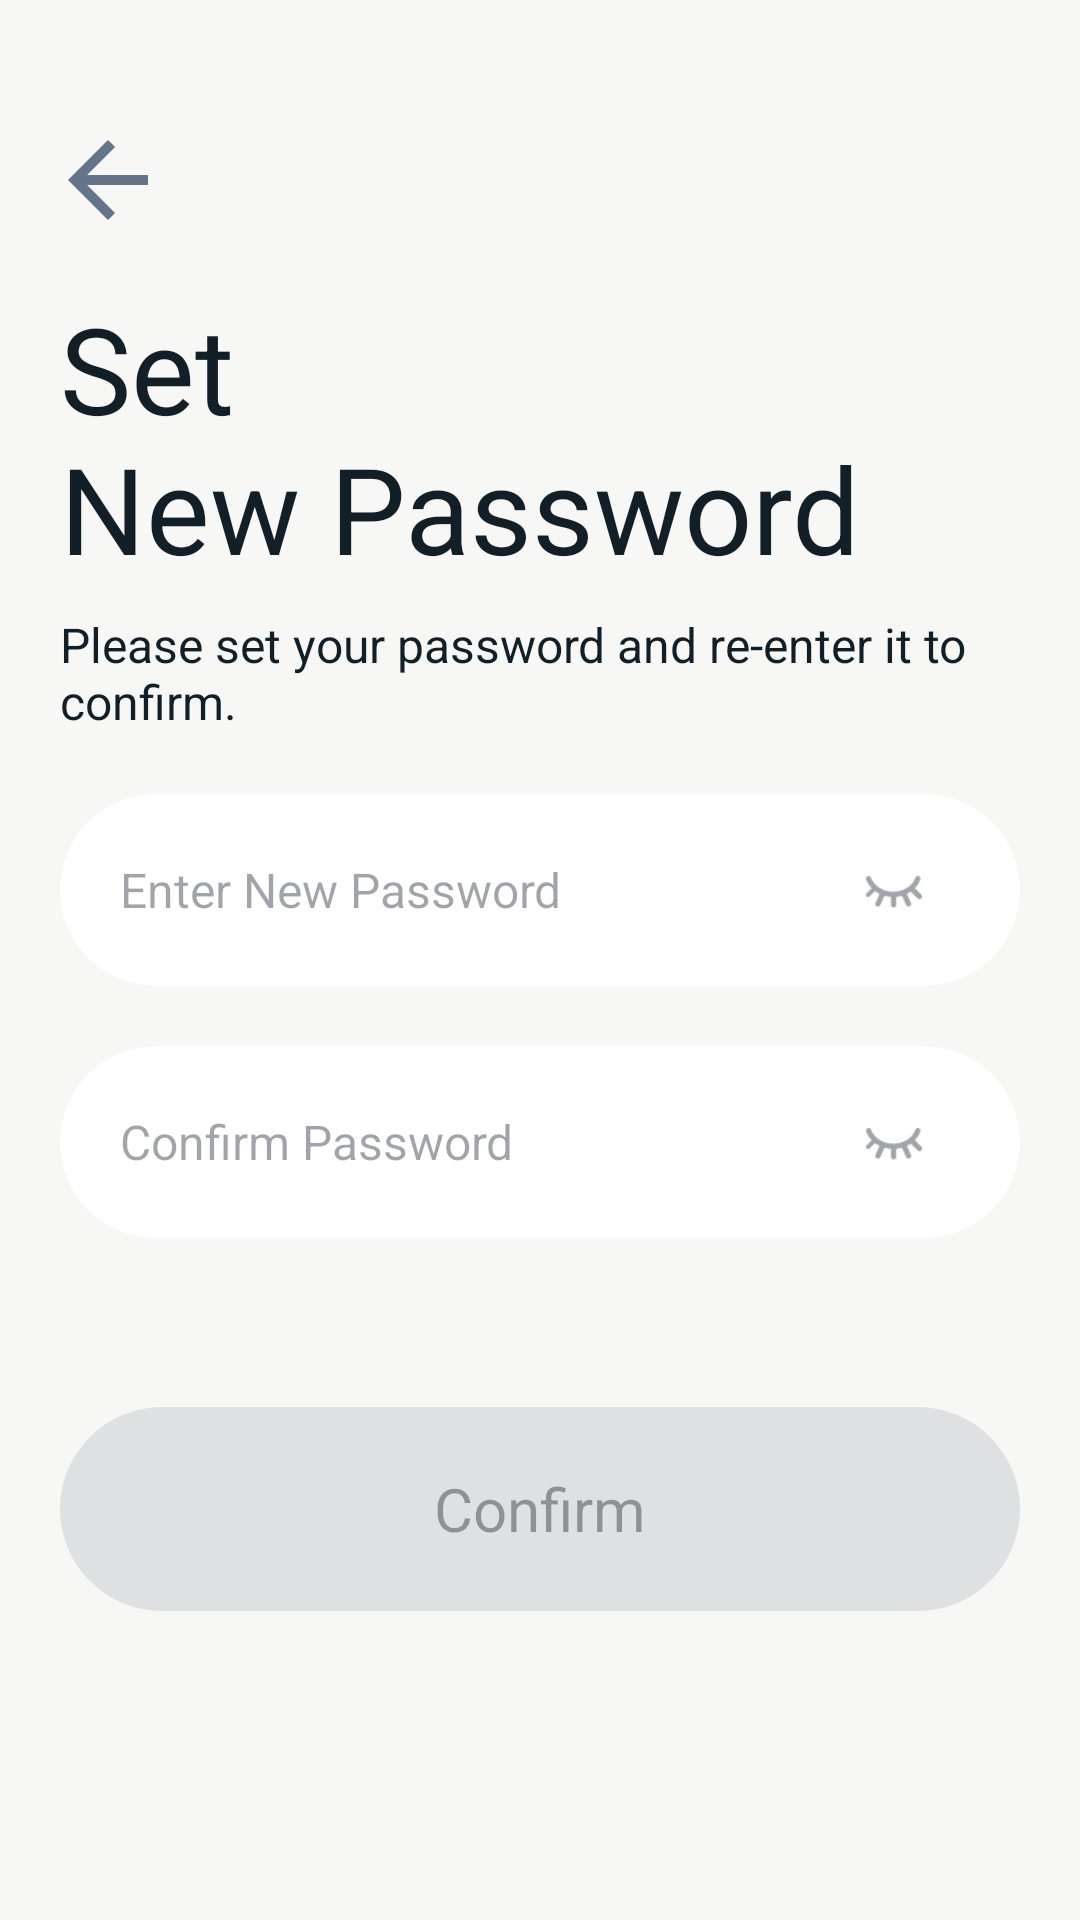

Point at icon controls on the screen. Image size 1080px×1920px, points as point (x, y).
arrow back: point (108, 180)
register password: point (894, 892), point (894, 1144)
